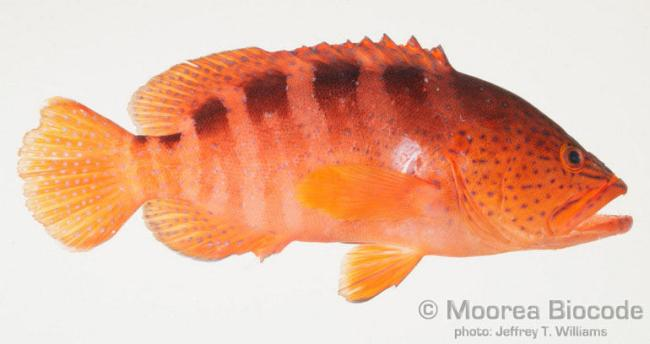fish: (19, 33, 634, 304)
